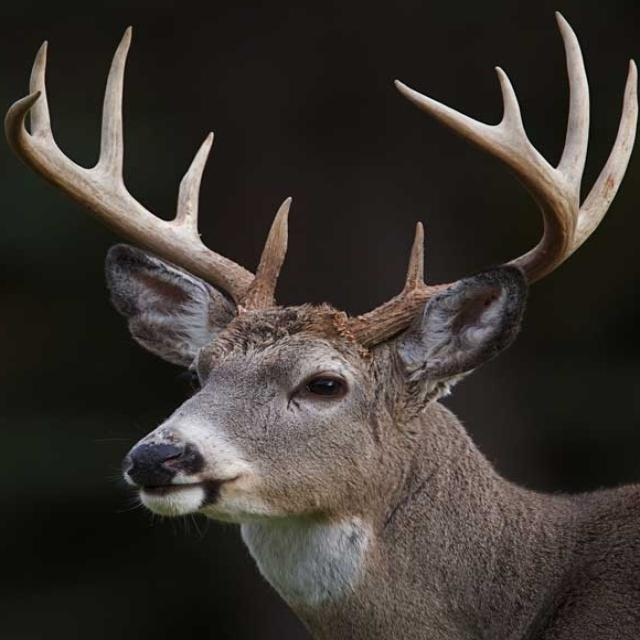L-G1: (402, 221, 429, 291)
L-G2: (573, 58, 638, 251)
L-G3: (554, 11, 590, 197)
L-G4: (494, 66, 526, 135)
R-G1: (251, 196, 292, 296)
R-G2: (172, 131, 214, 239)
R-G3: (95, 25, 133, 183), (30, 40, 54, 142)
